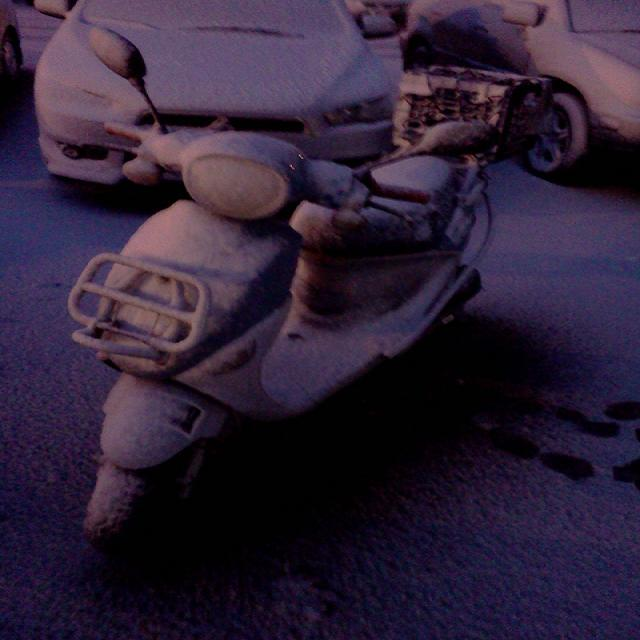Motorbike: (52, 12, 523, 552)
car: (16, 0, 460, 189), (403, 0, 640, 211)
